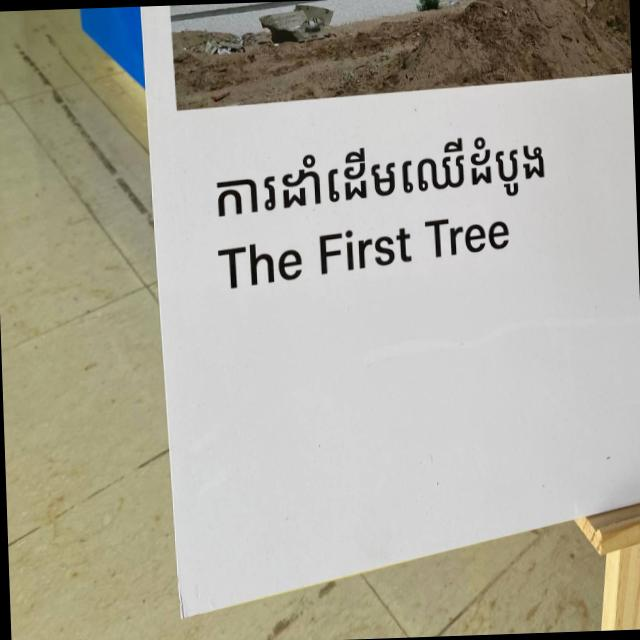Yolov11_80vkh: (208, 116, 563, 241)
